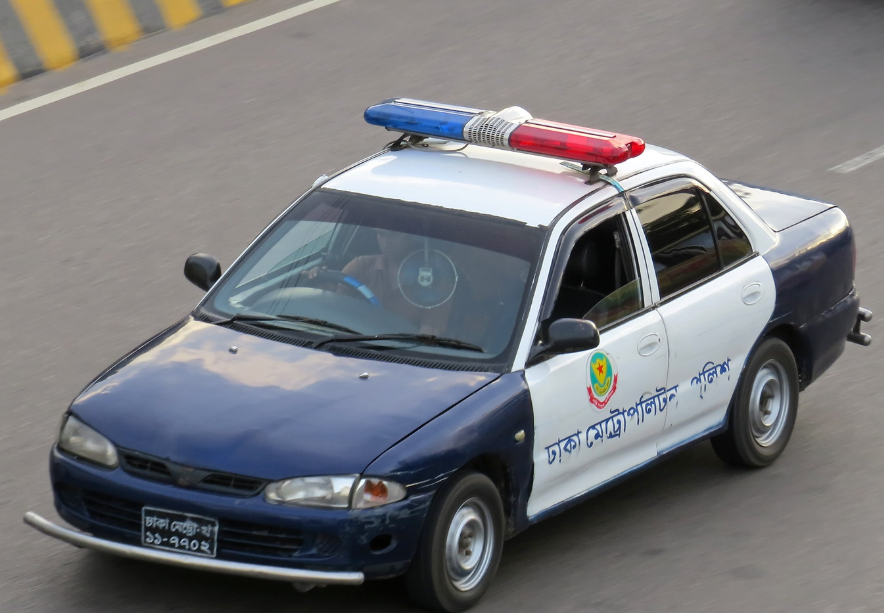Police cars: (21, 99, 877, 605)
